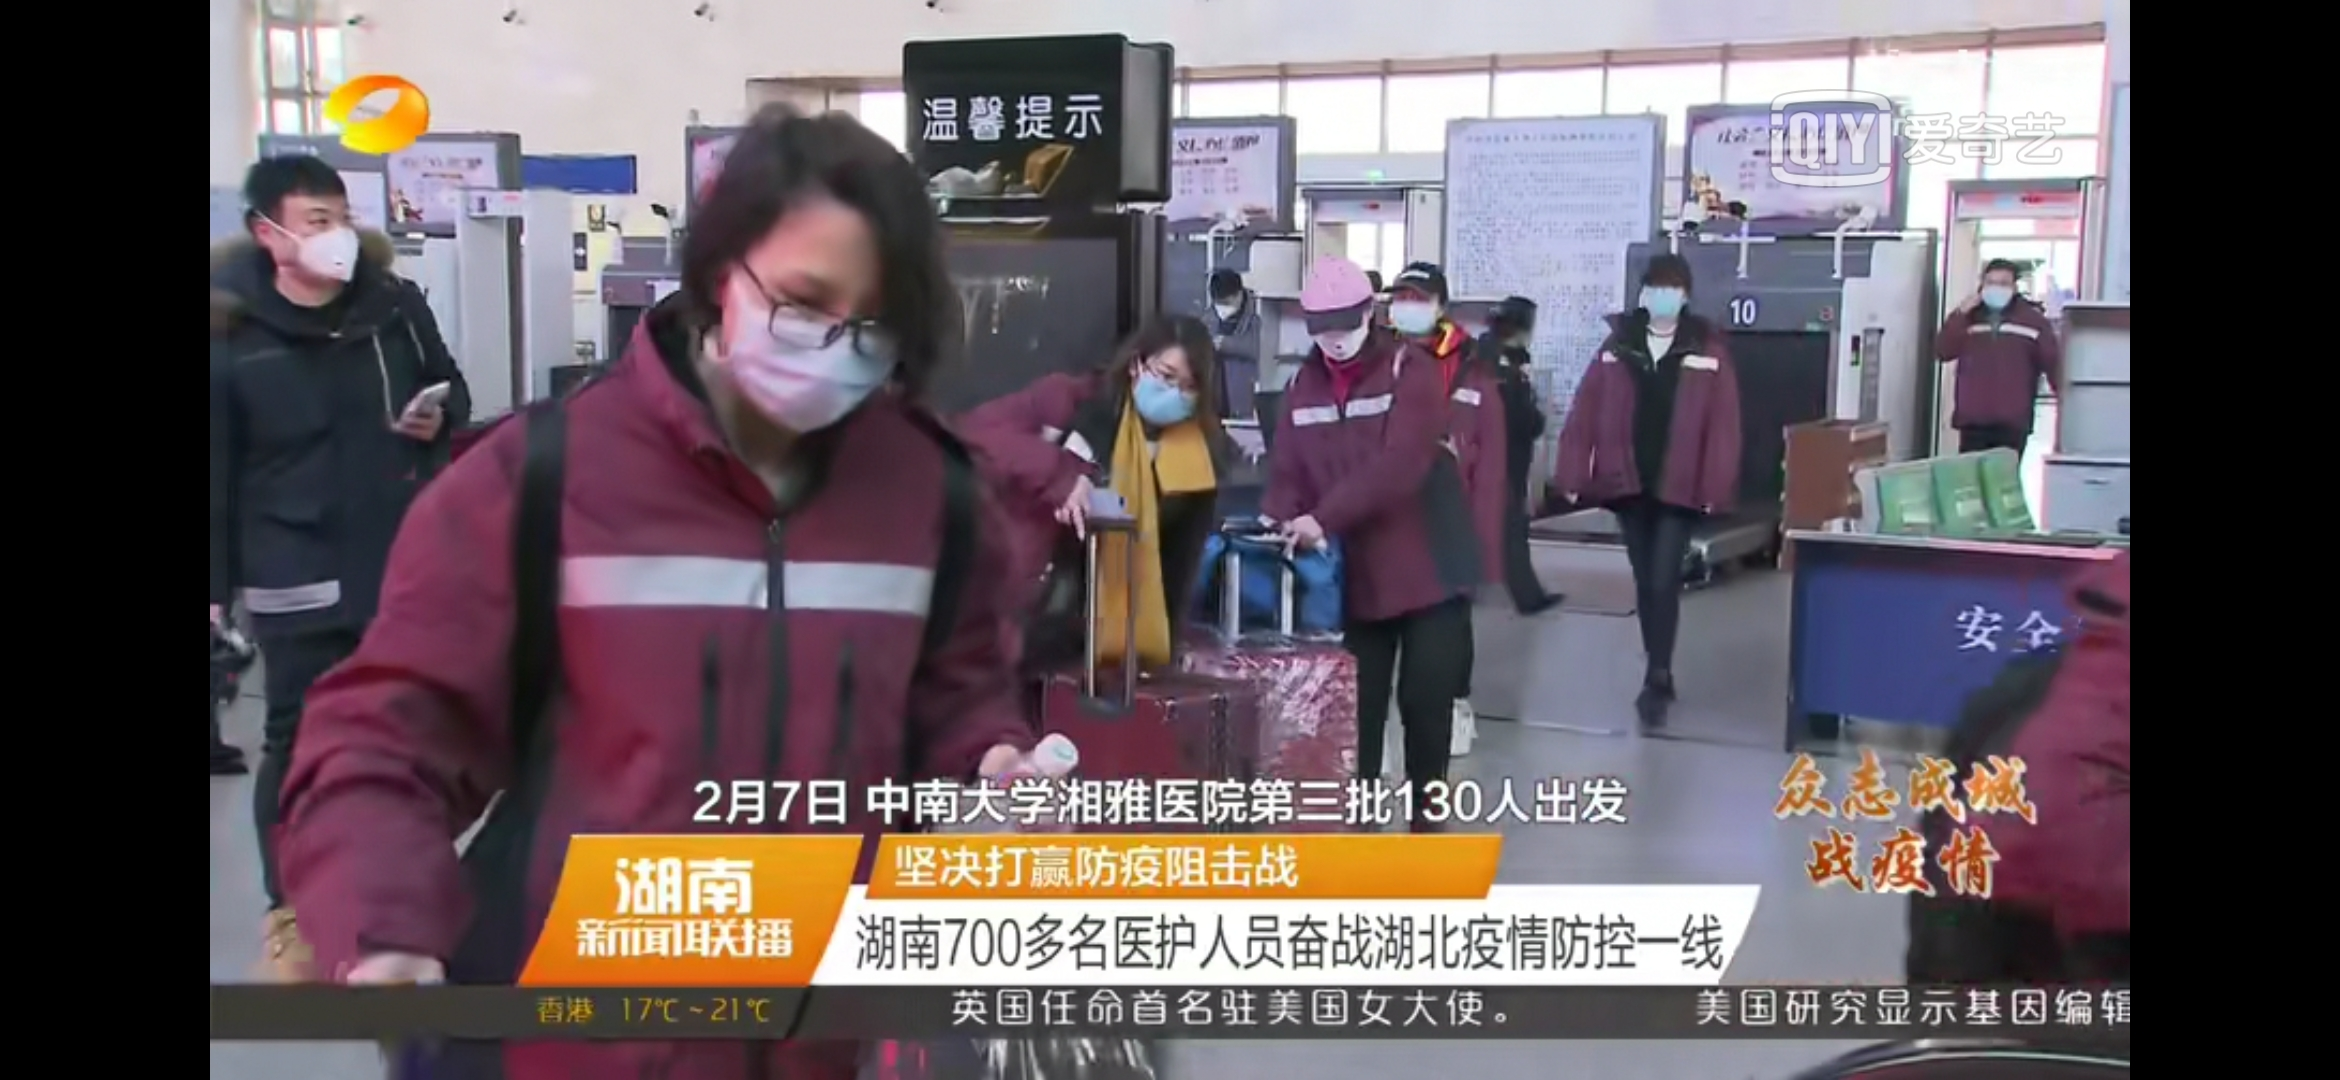correctlyWear: (713, 249, 904, 453), (258, 186, 361, 298), (1119, 348, 1204, 436), (1307, 303, 1368, 362), (1388, 285, 1448, 339), (1639, 274, 1688, 330), (1980, 269, 2018, 316), (1213, 291, 1245, 327)
